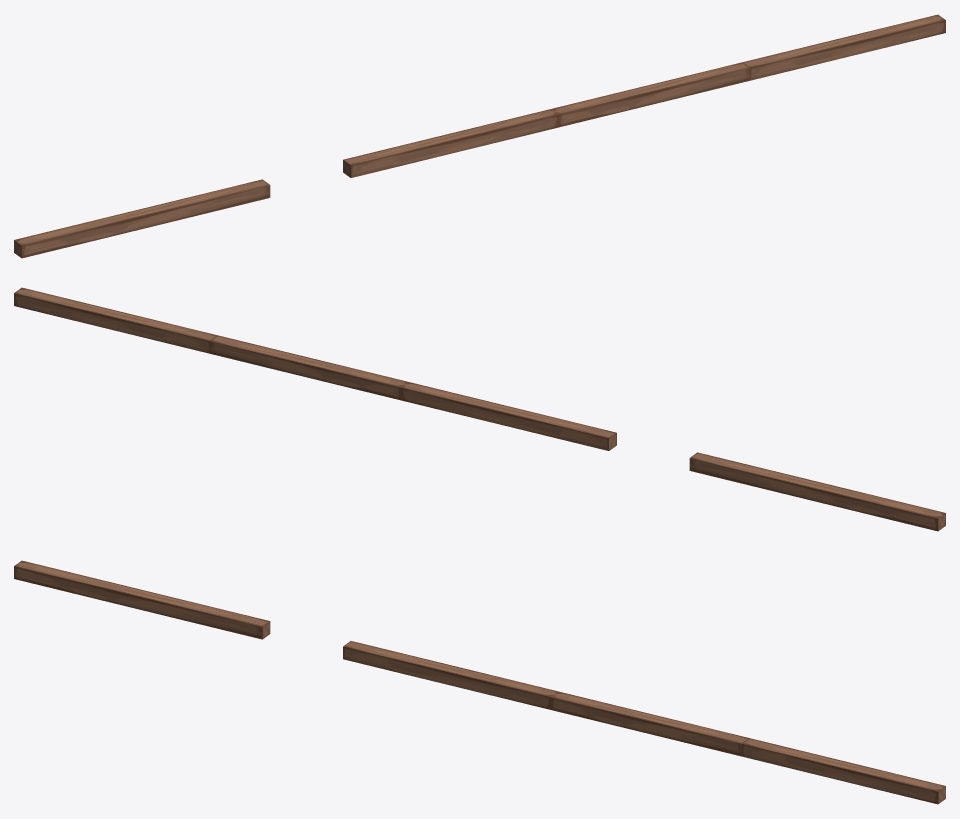
File: Threshold.fbx
The picture shows the model from 3 angles, top to bottom: view 1: azimuth 30°, elevation 25°; view 2: azimuth 150°, elevation 25°; view 3: azimuth 330°, elevation 25°; orthographic projection.
Parts seen in each view (by area): view 1: Window.002; view 2: Window.002; view 3: Window.002.
Boxes of the visible parts, x1,y1,x2,y2 form: Window.002: (14,14,945,258); Window.002: (14,287,945,531); Window.002: (14,560,945,804).
Bounding box in the file's own units: 1694 × 22.42 × 24.73.
1 material, 1 textured.
